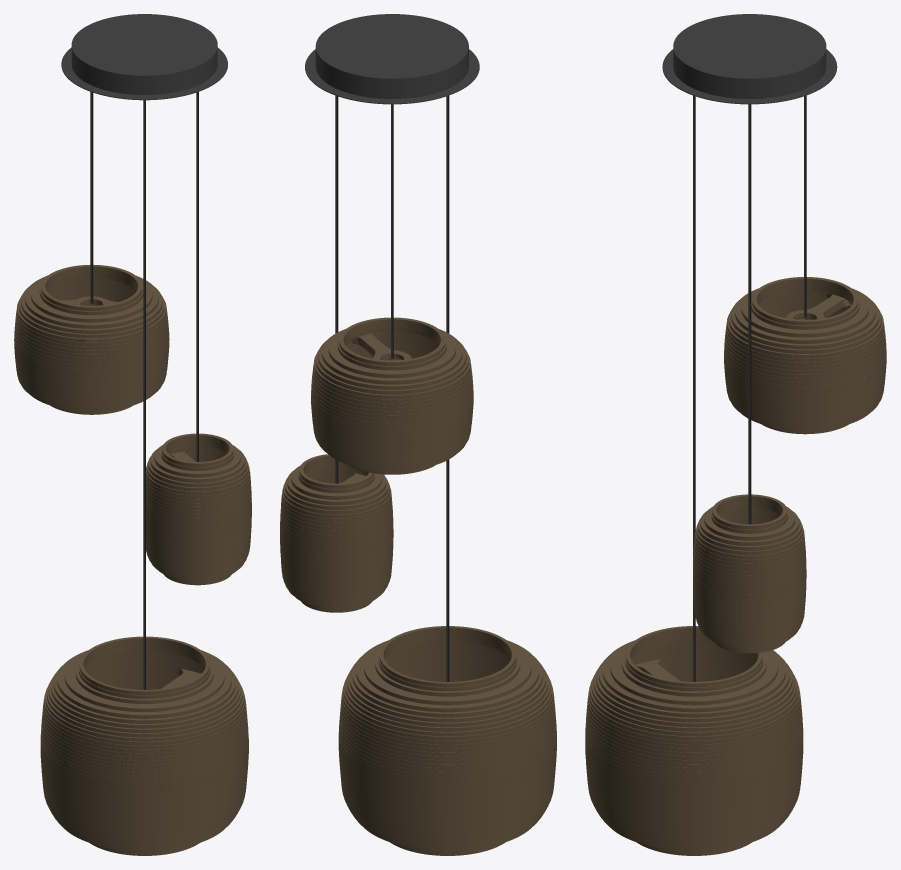
3 views of the same model, side by side, from view 1: azimuth 30°, elevation 25°; view 2: azimuth 150°, elevation 25°; view 3: azimuth 270°, elevation 25° (orthographic). The views are drawn at different scales.
Size of the model in its own units: 0.4501 by 1.5 by 0.5179.
